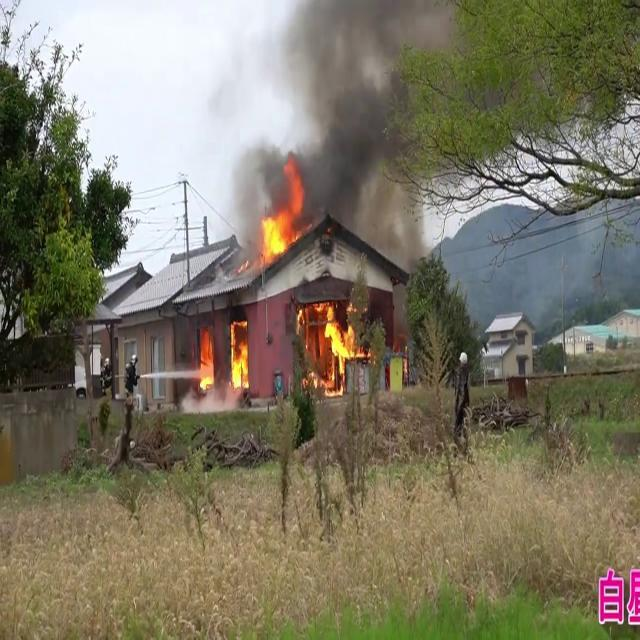Fire: (301, 298, 363, 390), (193, 321, 250, 404), (256, 172, 306, 266)
Smoke: (244, 0, 444, 242)
